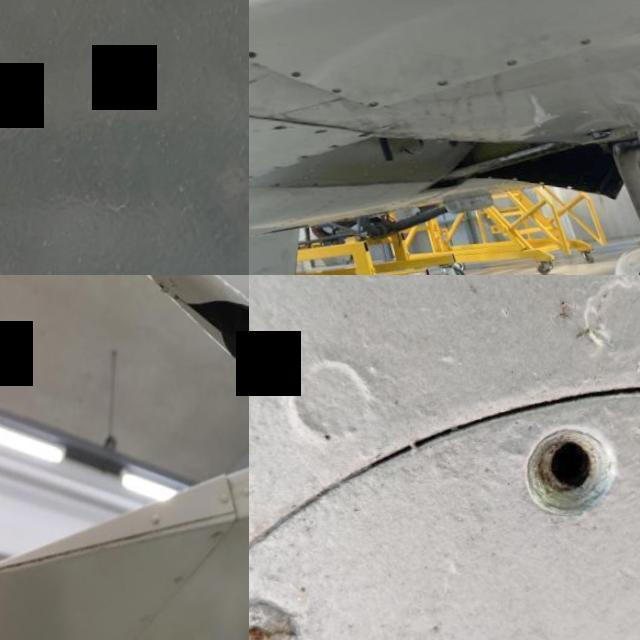Crack: (169, 275, 249, 450)
Missing_Fastener: (496, 373, 640, 556), (372, 96, 384, 106), (440, 74, 452, 84), (252, 48, 262, 58), (276, 122, 292, 128), (296, 68, 307, 76), (334, 140, 345, 148), (320, 125, 332, 132), (302, 152, 314, 159), (337, 84, 348, 91), (364, 129, 375, 136)
